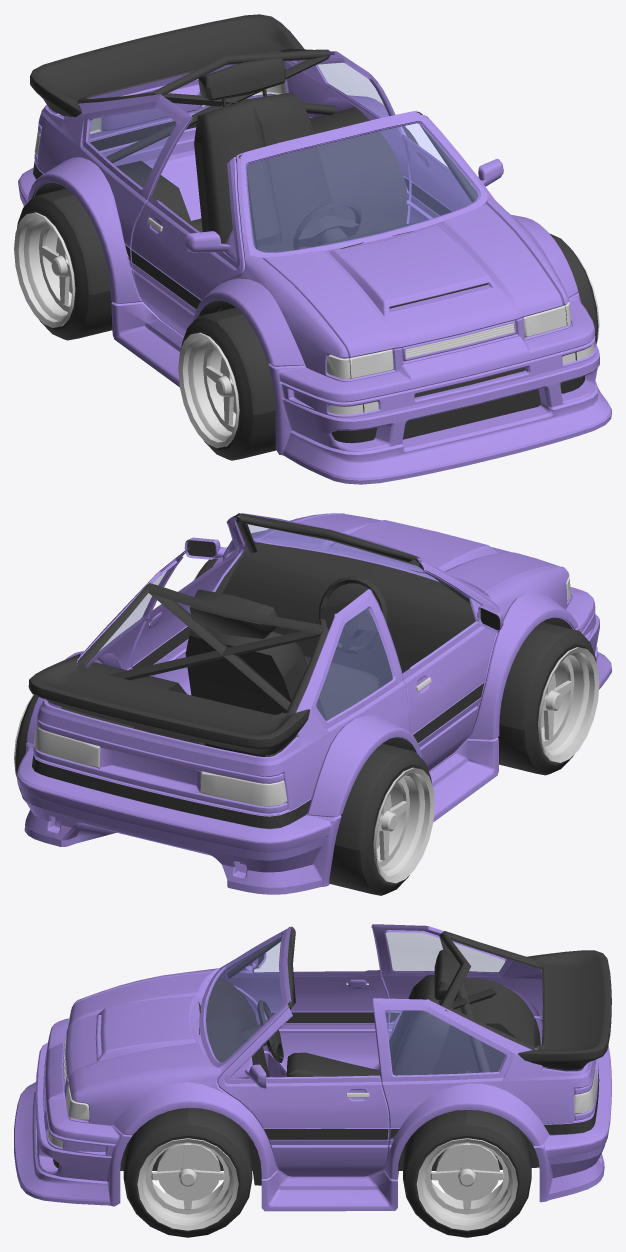
File: SportsCarKart.fbx
3 views of the same model, one above another, from view 1: azimuth 30°, elevation 25°; view 2: azimuth 150°, elevation 25°; view 3: azimuth 270°, elevation 25° (orthographic). The views are drawn at different scales.
Visible parts, largest first — view 1: Body1, Seat, FL_Wheel, RL_Wheel, Steering, FR_Wheel; view 2: Body1, FL_Wheel, RL_Wheel, Seat, Steering, RR_Wheel; view 3: Body1, FR_Wheel, RR_Wheel, Seat, Steering.
Boxes of the visible parts, x1,y1,x2,y2 form: Body1: [18, 14, 611, 484]; Seat: [194, 57, 336, 252]; FL_Wheel: [178, 307, 276, 460]; RL_Wheel: [14, 188, 112, 340]; Steering: [293, 200, 361, 249]; FR_Wheel: [549, 233, 599, 344]; Body1: [17, 513, 611, 894]; FL_Wheel: [498, 622, 599, 775]; RL_Wheel: [329, 743, 434, 895]; Seat: [185, 589, 380, 756]; Steering: [319, 576, 387, 653]; RR_Wheel: [14, 694, 38, 801]; Body1: [14, 924, 611, 1211]; FR_Wheel: [123, 1108, 252, 1237]; RR_Wheel: [403, 1110, 531, 1237]; Seat: [286, 949, 460, 1076]; Steering: [257, 1000, 283, 1062].
Size of the model in its own units: 21.66 by 13.81 by 36.17.
